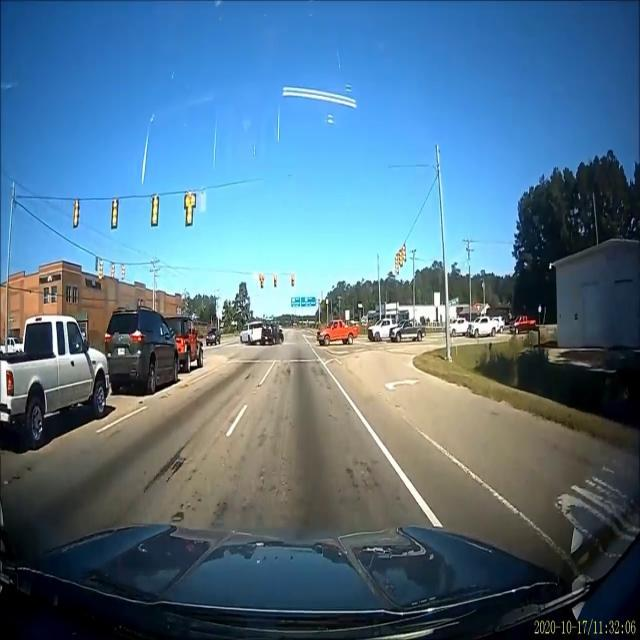accident: (238, 314, 286, 346)
